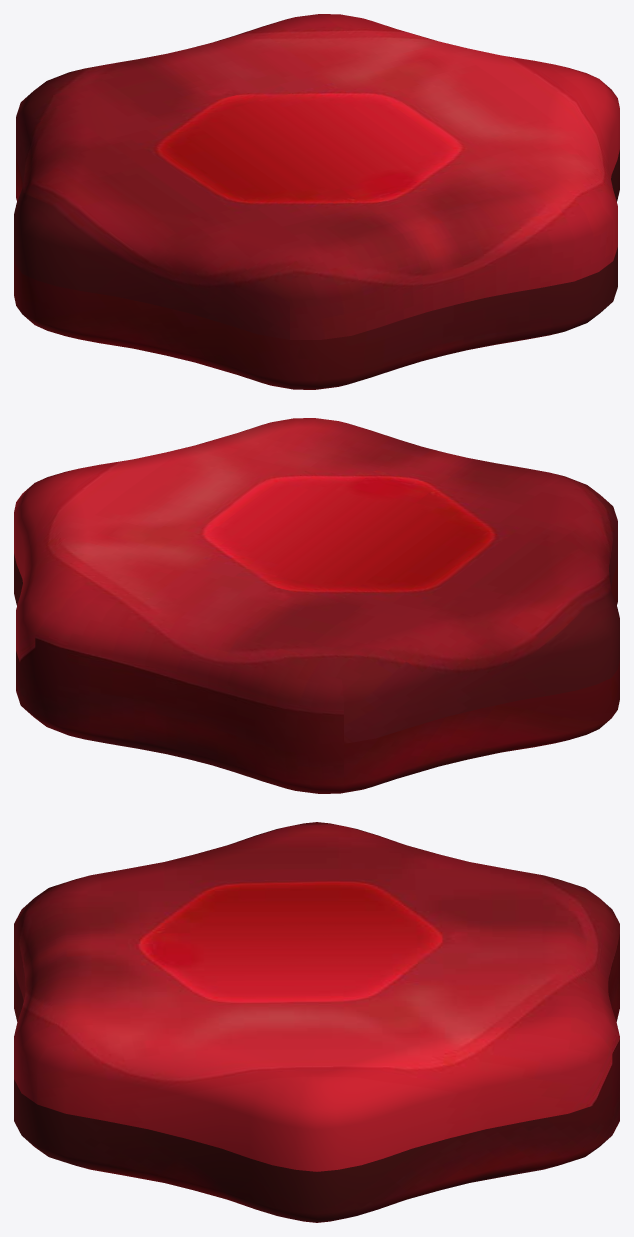
File: gai-di.fbx
3 views of the same model, one above another, from view 1: azimuth 30°, elevation 25°; view 2: azimuth 150°, elevation 25°; view 3: azimuth 270°, elevation 25° (orthographic). The views are drawn at different scales.
Parts seen in each view (by area): view 1: s_d; view 2: s_d; view 3: s_d.
Boxes of the visible parts, x1,y1,x2,y2 form: s_d: (14, 14, 619, 389); s_d: (14, 418, 619, 793); s_d: (14, 822, 619, 1222).
Size of the model in its own units: 8.39 by 1.84 by 7.2.
